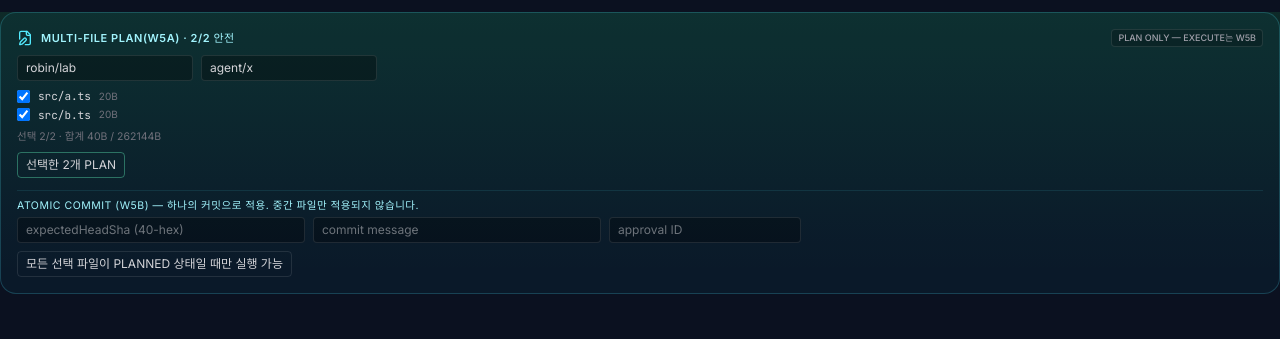
MultiFilePlanCard — W5a › (#W5b-2) head_mismatch 응답 → amber 경고 + blocked trace(reason=head_mismatch)
Click the button with test id "publish-multifile-plan-all". click: x=71, y=165
box: [17, 152, 125, 178]
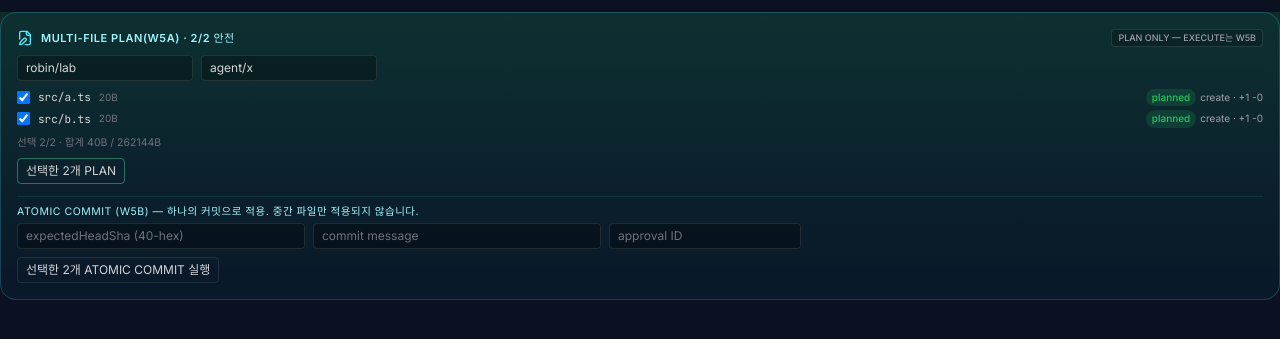
Now the list item with test id "publish-multifile-row-src/b.ts" has attribute data-state="planned", box [17, 110, 1263, 128]
Type "deadbeefdeadbeefdeadbeefdeadbeefdeadbeef" into the field named "multifile expectedHeadSha". click: x=161, y=236
box: [17, 223, 305, 249]
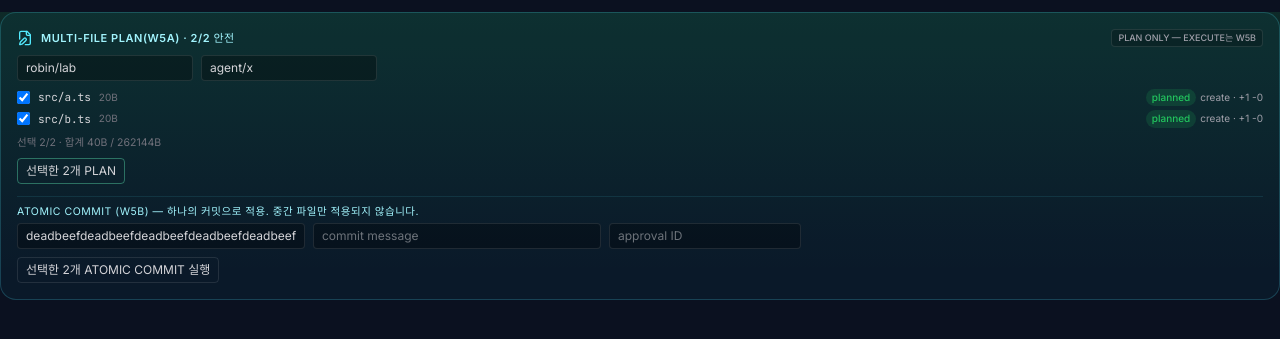
Type "x" into the field named "multifile commit message". click: x=457, y=236
box: [313, 223, 601, 249]
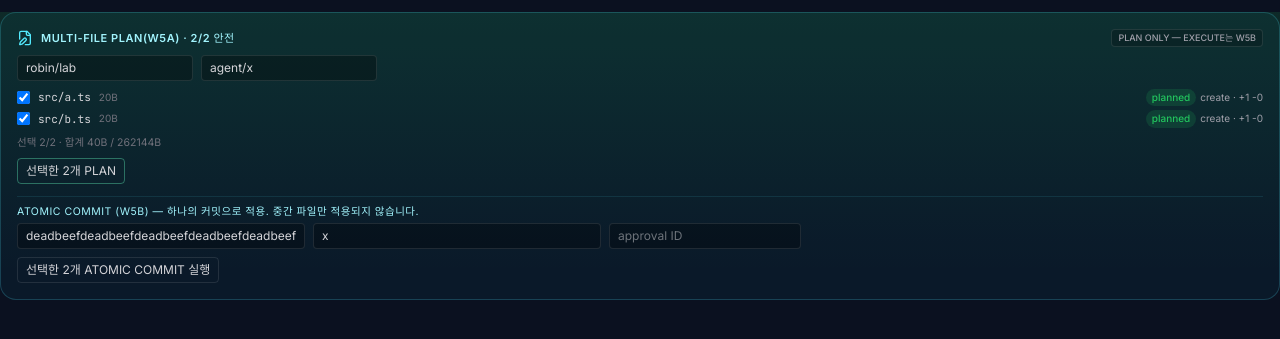
Type "a" into the field named "multifile approval ID". click: x=705, y=236
box: [609, 223, 801, 249]
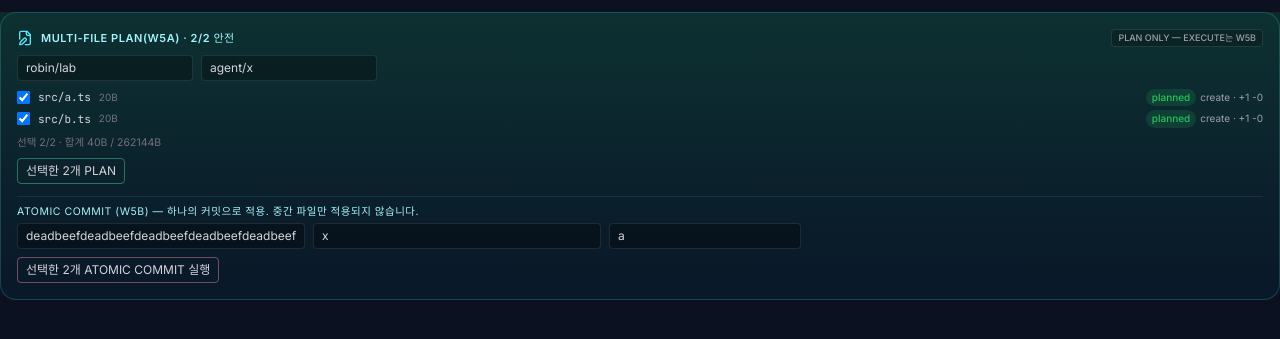
Click the button with test id "publish-multifile-execute". click: x=118, y=270
box: [17, 257, 219, 283]
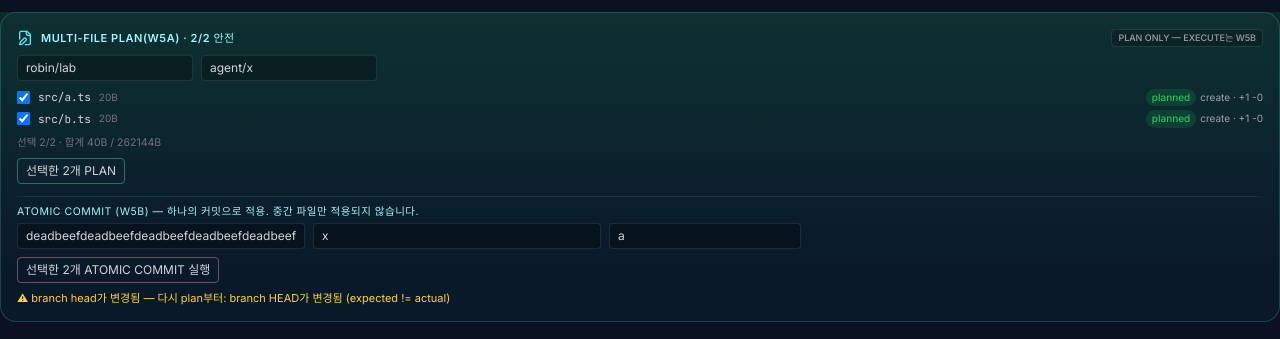
Now the text with test id "publish-multifile-execute-head-mismatch" shows "branch head가 변경됨", box [17, 291, 229, 305]
